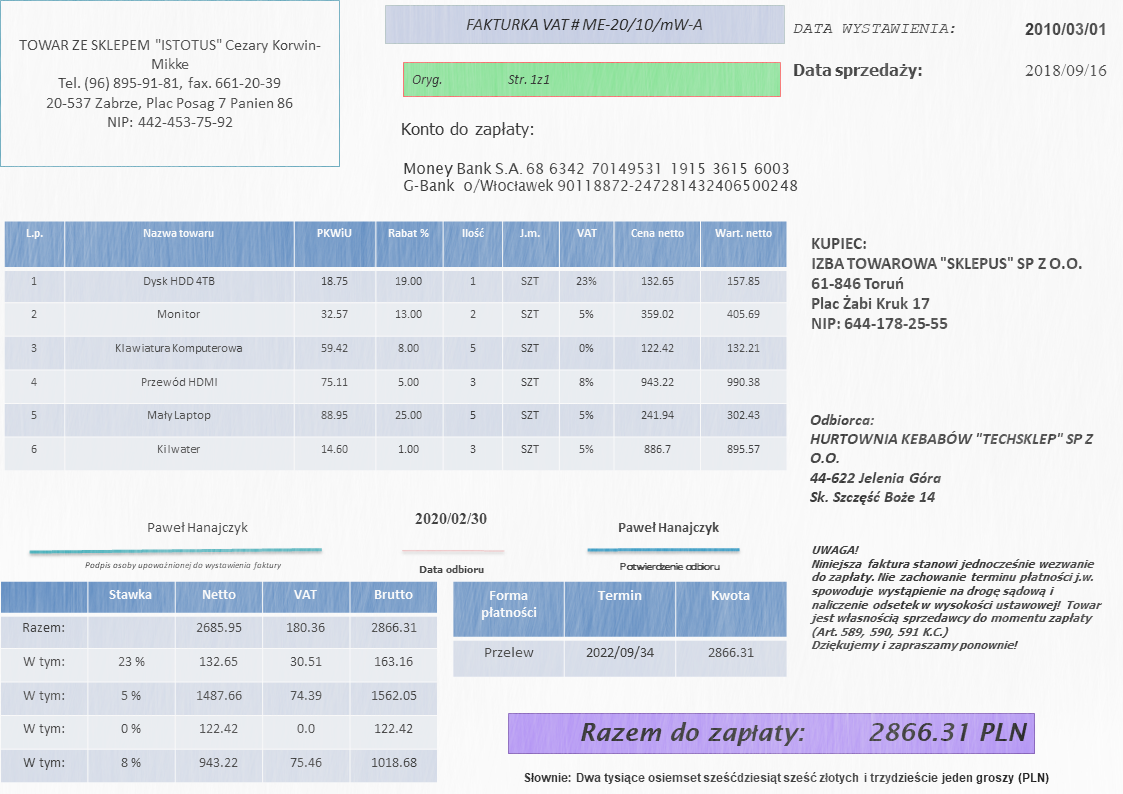Table: (2, 218, 788, 472), (1, 580, 439, 784), (452, 580, 788, 678)
TextBox: (810, 541, 1107, 654), (17, 37, 322, 130), (807, 409, 1094, 507), (808, 232, 1084, 333), (577, 716, 1031, 750), (400, 160, 801, 194), (521, 768, 1052, 789), (464, 15, 707, 35), (792, 18, 958, 39), (81, 558, 282, 573), (398, 119, 535, 141), (791, 60, 925, 82), (410, 72, 552, 89), (615, 518, 721, 539), (144, 516, 250, 536), (1023, 61, 1111, 81), (1021, 19, 1106, 39), (616, 559, 723, 574), (413, 509, 488, 529), (416, 562, 486, 576)
